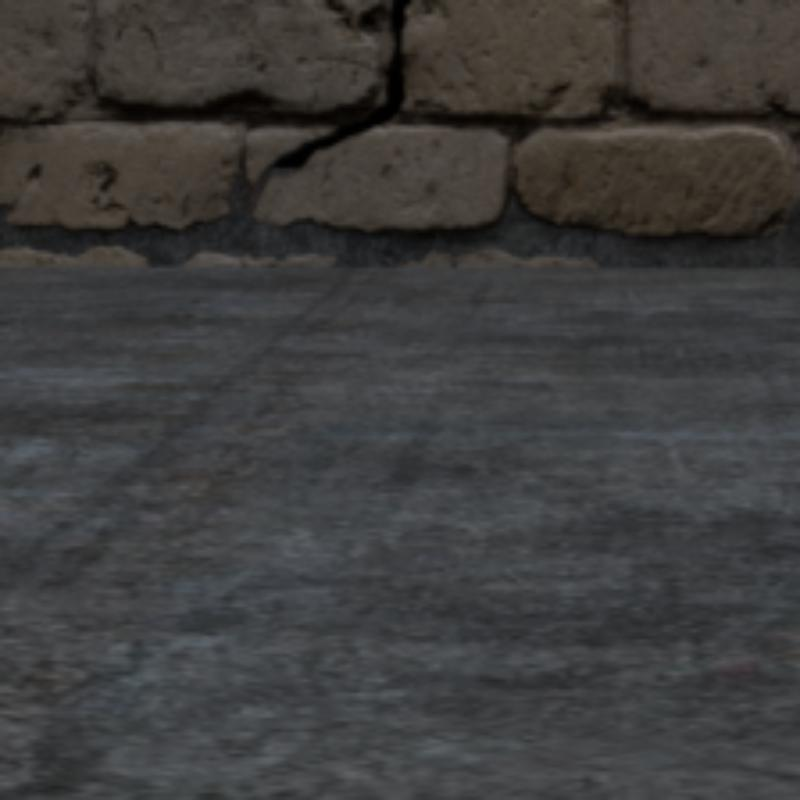pothole: (250, 0, 411, 211)
